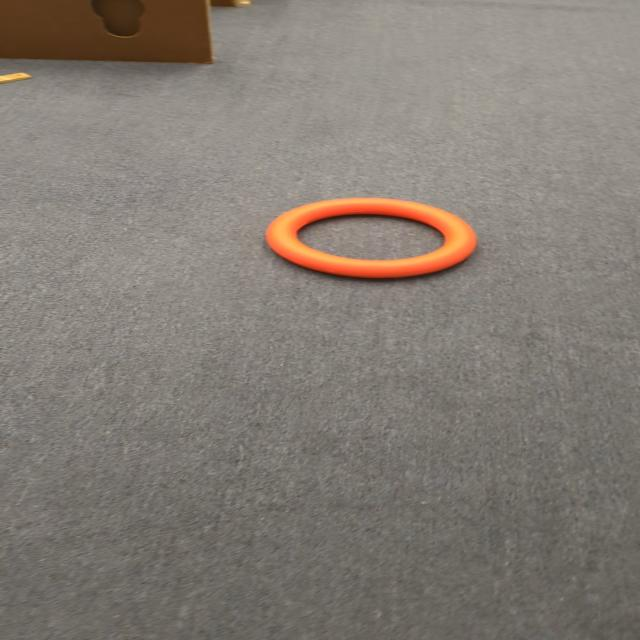note: (268, 197, 478, 281)
